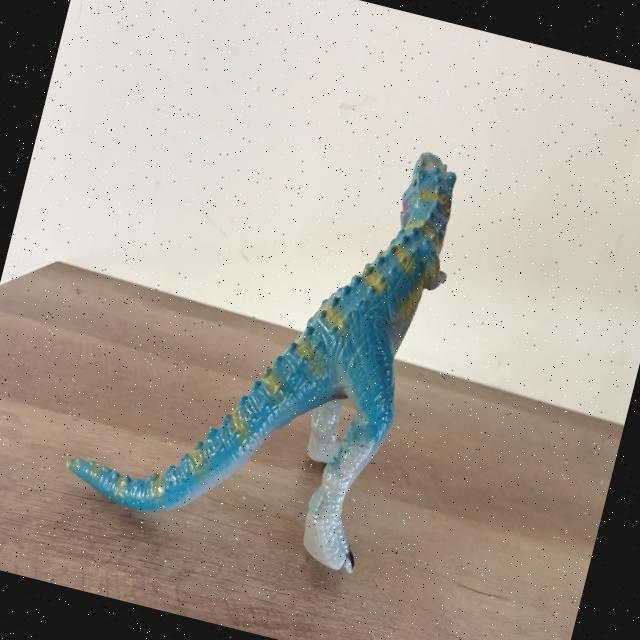dinosaur: (66, 152, 455, 572)
